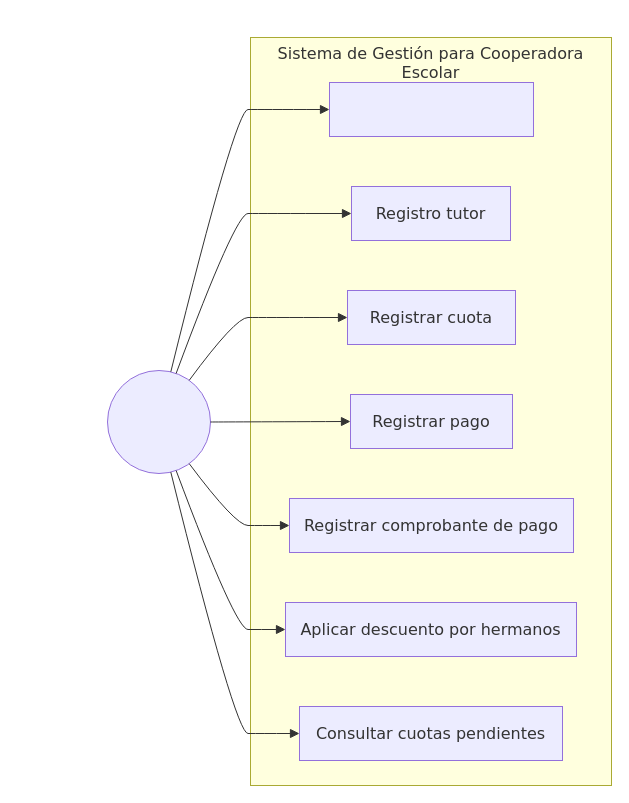
Some shapes in this 629 by 803 pixel diagram are drawn without their labels. Each missing label, with the centre of its shape:
"Registro de alumnos" belongs at (431,109).
"Secretaria" belongs at (158,422).
